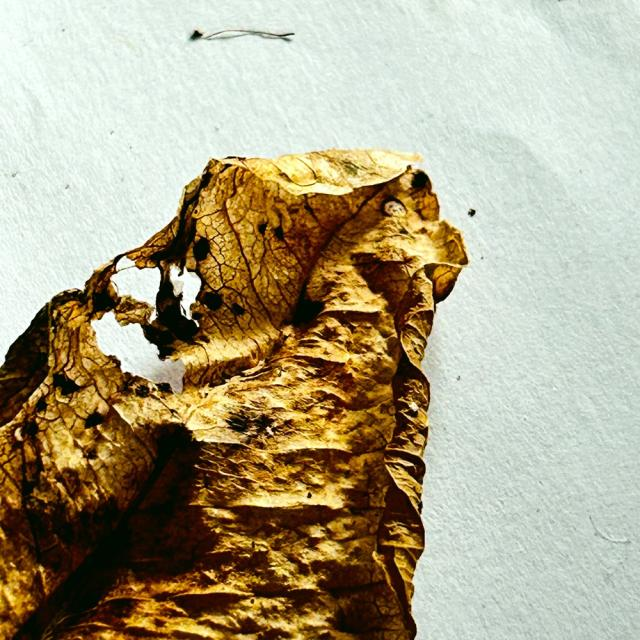DryLeaf_Lemon: (0, 150, 468, 639)
